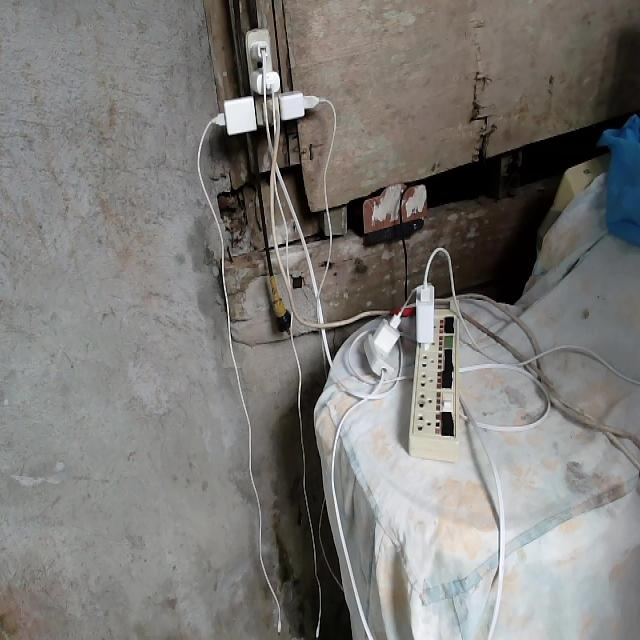-: (208, 25, 322, 143)
